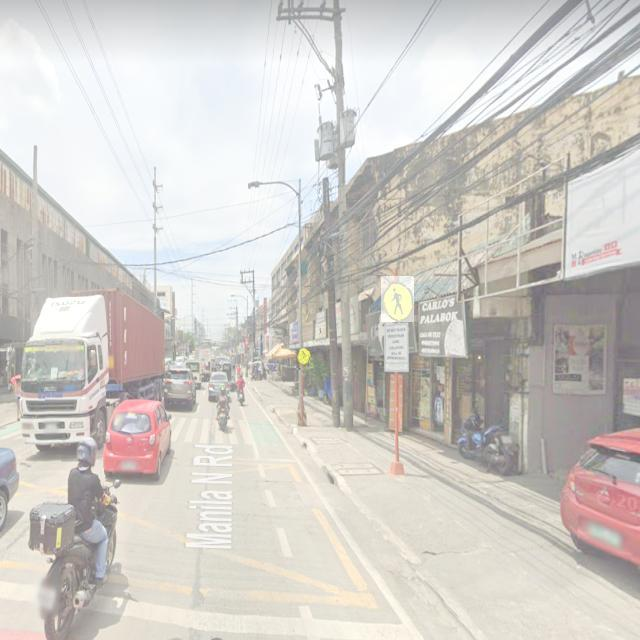bike lane: (291, 342, 314, 370)
pedestrian crossing: (381, 276, 414, 322)
